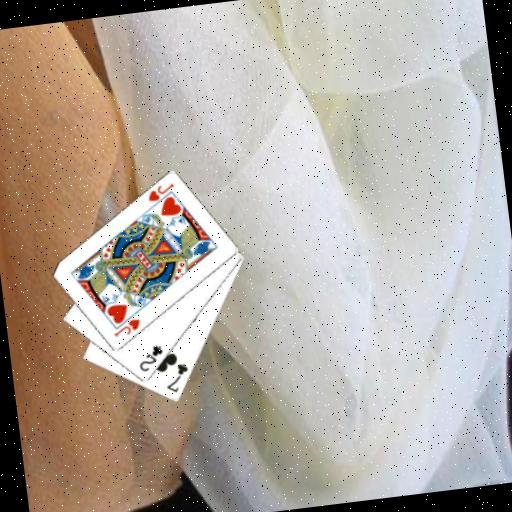2C: (134, 342, 167, 374)
7C: (161, 360, 192, 396)
JH: (109, 316, 143, 340), (144, 180, 178, 204)
